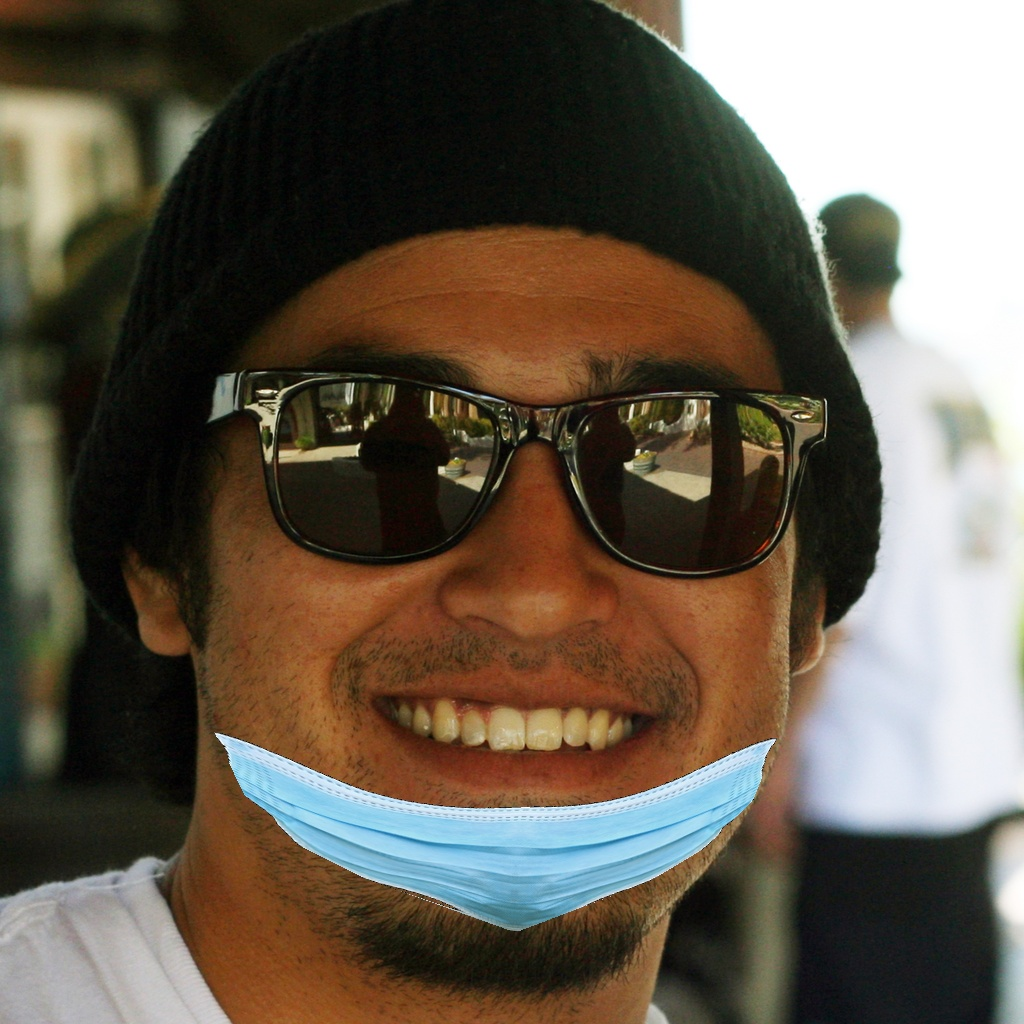mascarilla_mal_puesta: (189, 323, 859, 988)
